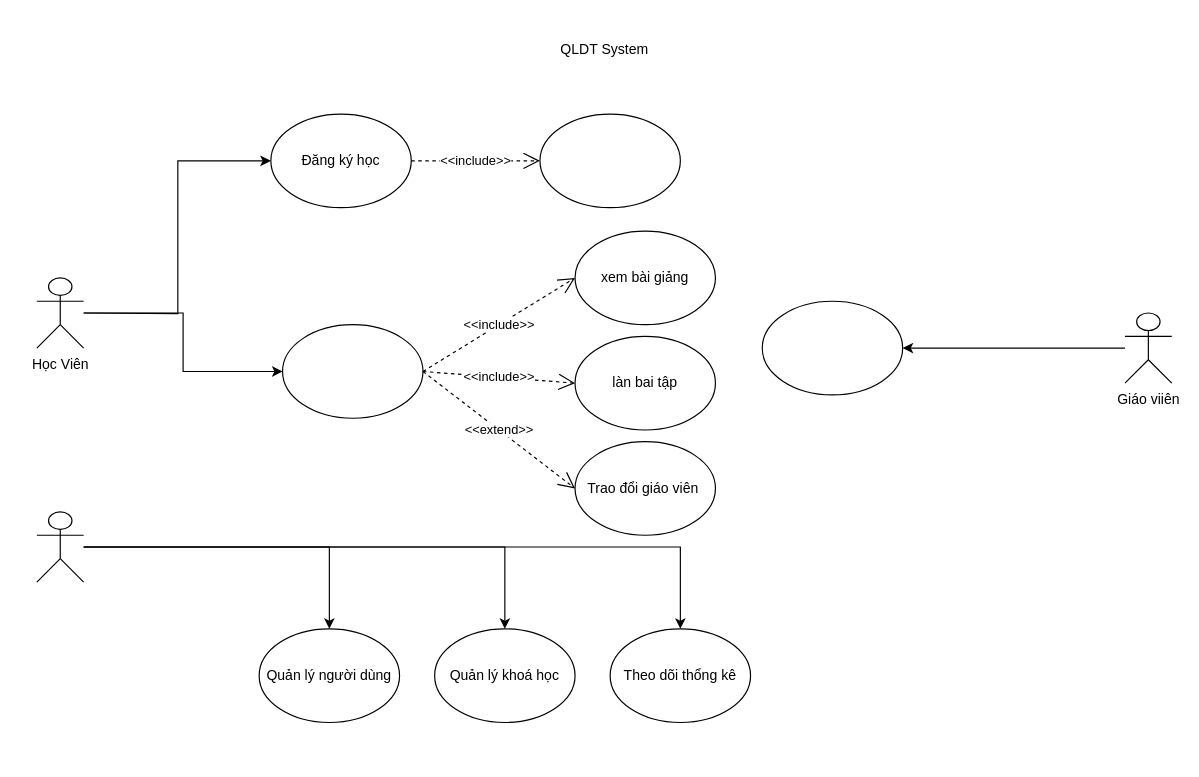
This 1199x777 diagram has some shape labels left out. Each missing label, with the box of its shape:
Hoc online: (281, 324, 423, 418)
Quản lý điểm: (761, 300, 903, 395)
Quản trị viên: (36, 511, 84, 582)
Đăng nhập: (539, 113, 680, 208)
